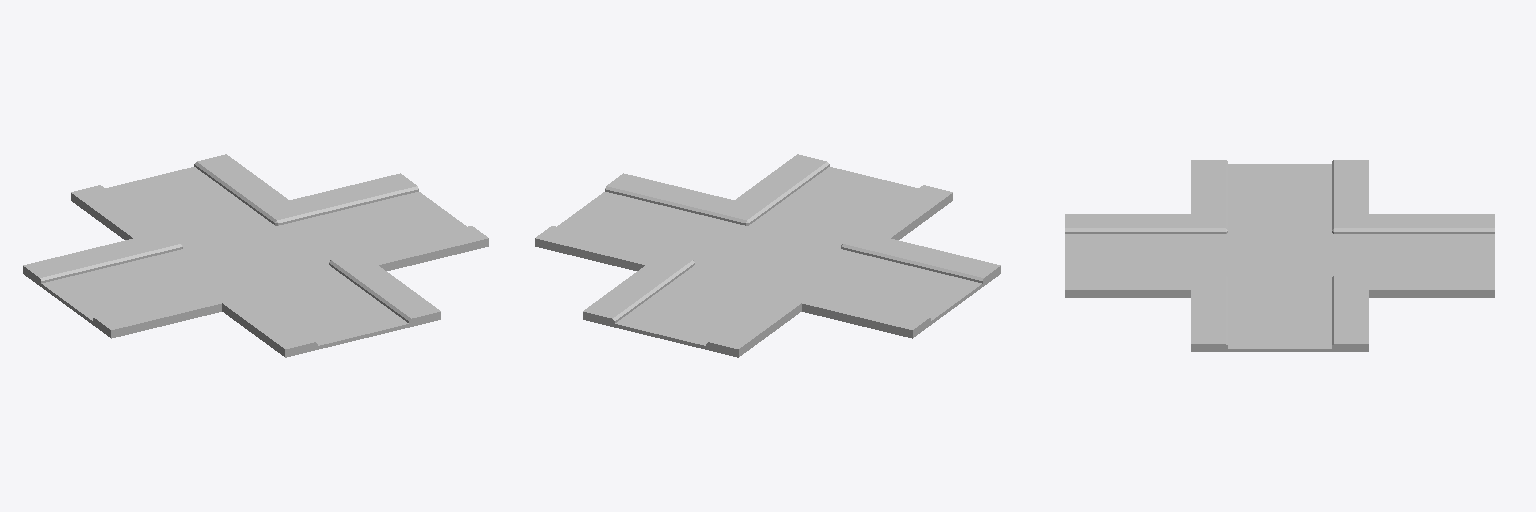
File: fourway_road (1).obj
3 renders of one model, left to right at view 1: azimuth 30°, elevation 25°; view 2: azimuth 150°, elevation 25°; view 3: azimuth 270°, elevation 25°, orthographic.
Parts seen in each view (by area): view 1: pCube10; view 2: pCube10; view 3: pCube10.
Part boxes in pixels (bbox=[...]): pCube10: bbox=[23, 154, 488, 357]; pCube10: bbox=[535, 154, 1000, 357]; pCube10: bbox=[1065, 160, 1494, 351].
Bounding box in the file's own units: 14.13 × 0.2957 × 13.92.